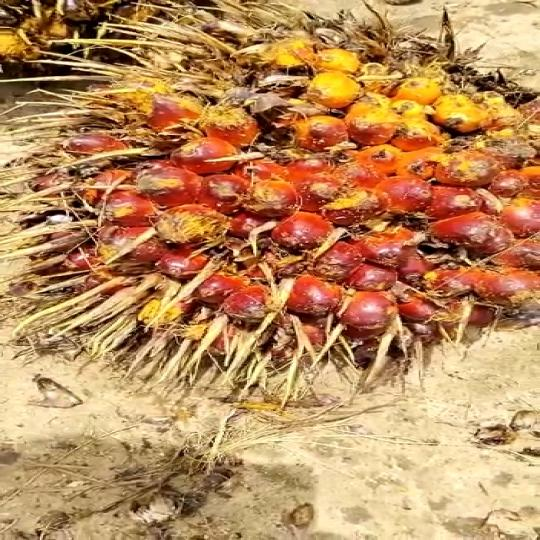masak: (47, 7, 540, 393)
